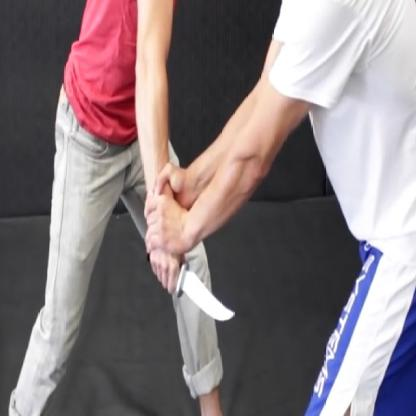knife: (143, 248, 239, 330)
